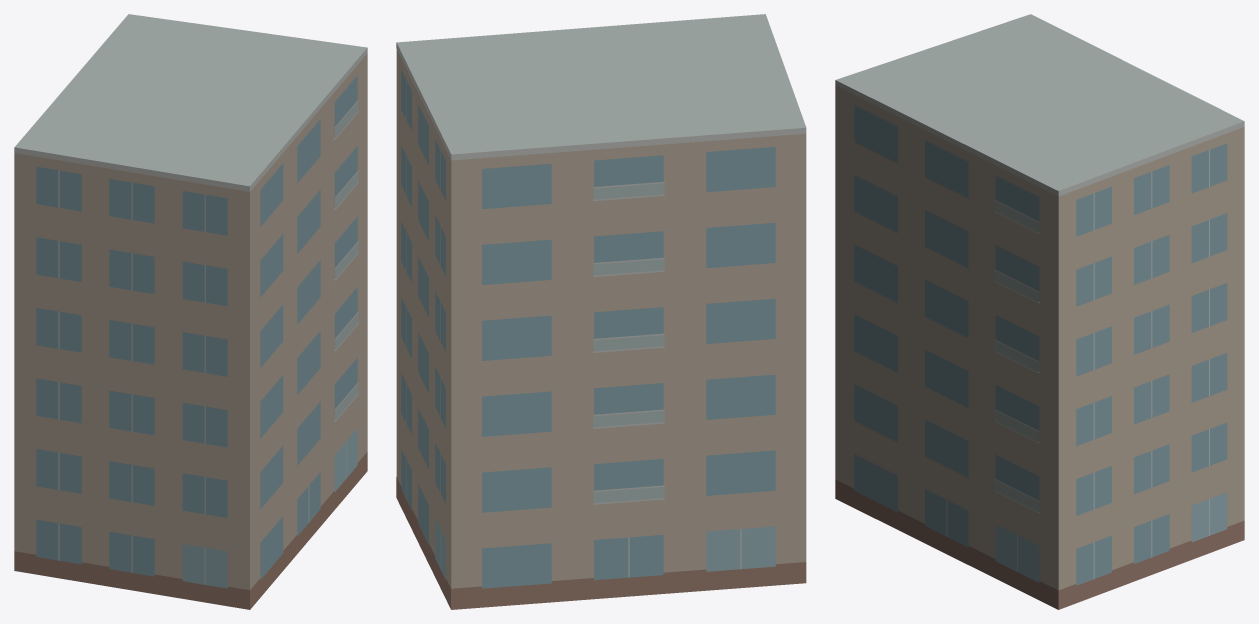
Rendered from survey-upis-32914903.glb.
The picture shows the model from 3 angles, left to right: view 1: azimuth 30°, elevation 25°; view 2: azimuth 150°, elevation 25°; view 3: azimuth 270°, elevation 25°; orthographic projection. The views are drawn at different scales.
Parts seen in each view (by area): view 1: survey-upis-32914903.tmp; view 2: survey-upis-32914903.tmp; view 3: survey-upis-32914903.tmp.
Boxes of the visible parts, x1=… form: survey-upis-32914903.tmp: x1=14, y1=14, x2=367, y2=609; survey-upis-32914903.tmp: x1=396, y1=14, x2=806, y2=609; survey-upis-32914903.tmp: x1=835, y1=14, x2=1244, y2=609.
Size of the model in its own units: 16.79 by 18.5 by 16.39.
